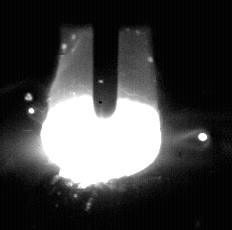arame: (93, 0, 119, 117)
poca: (40, 0, 163, 230)
